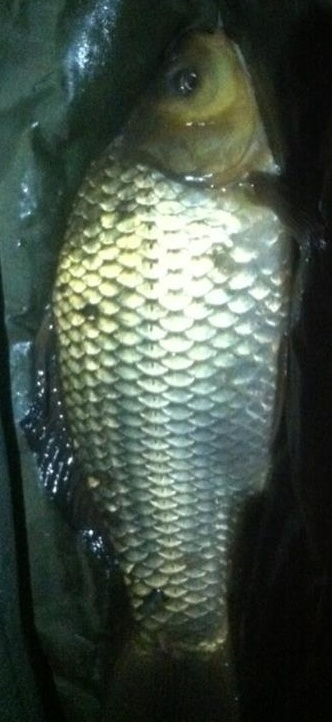Carassius carassius: (20, 20, 312, 702)
